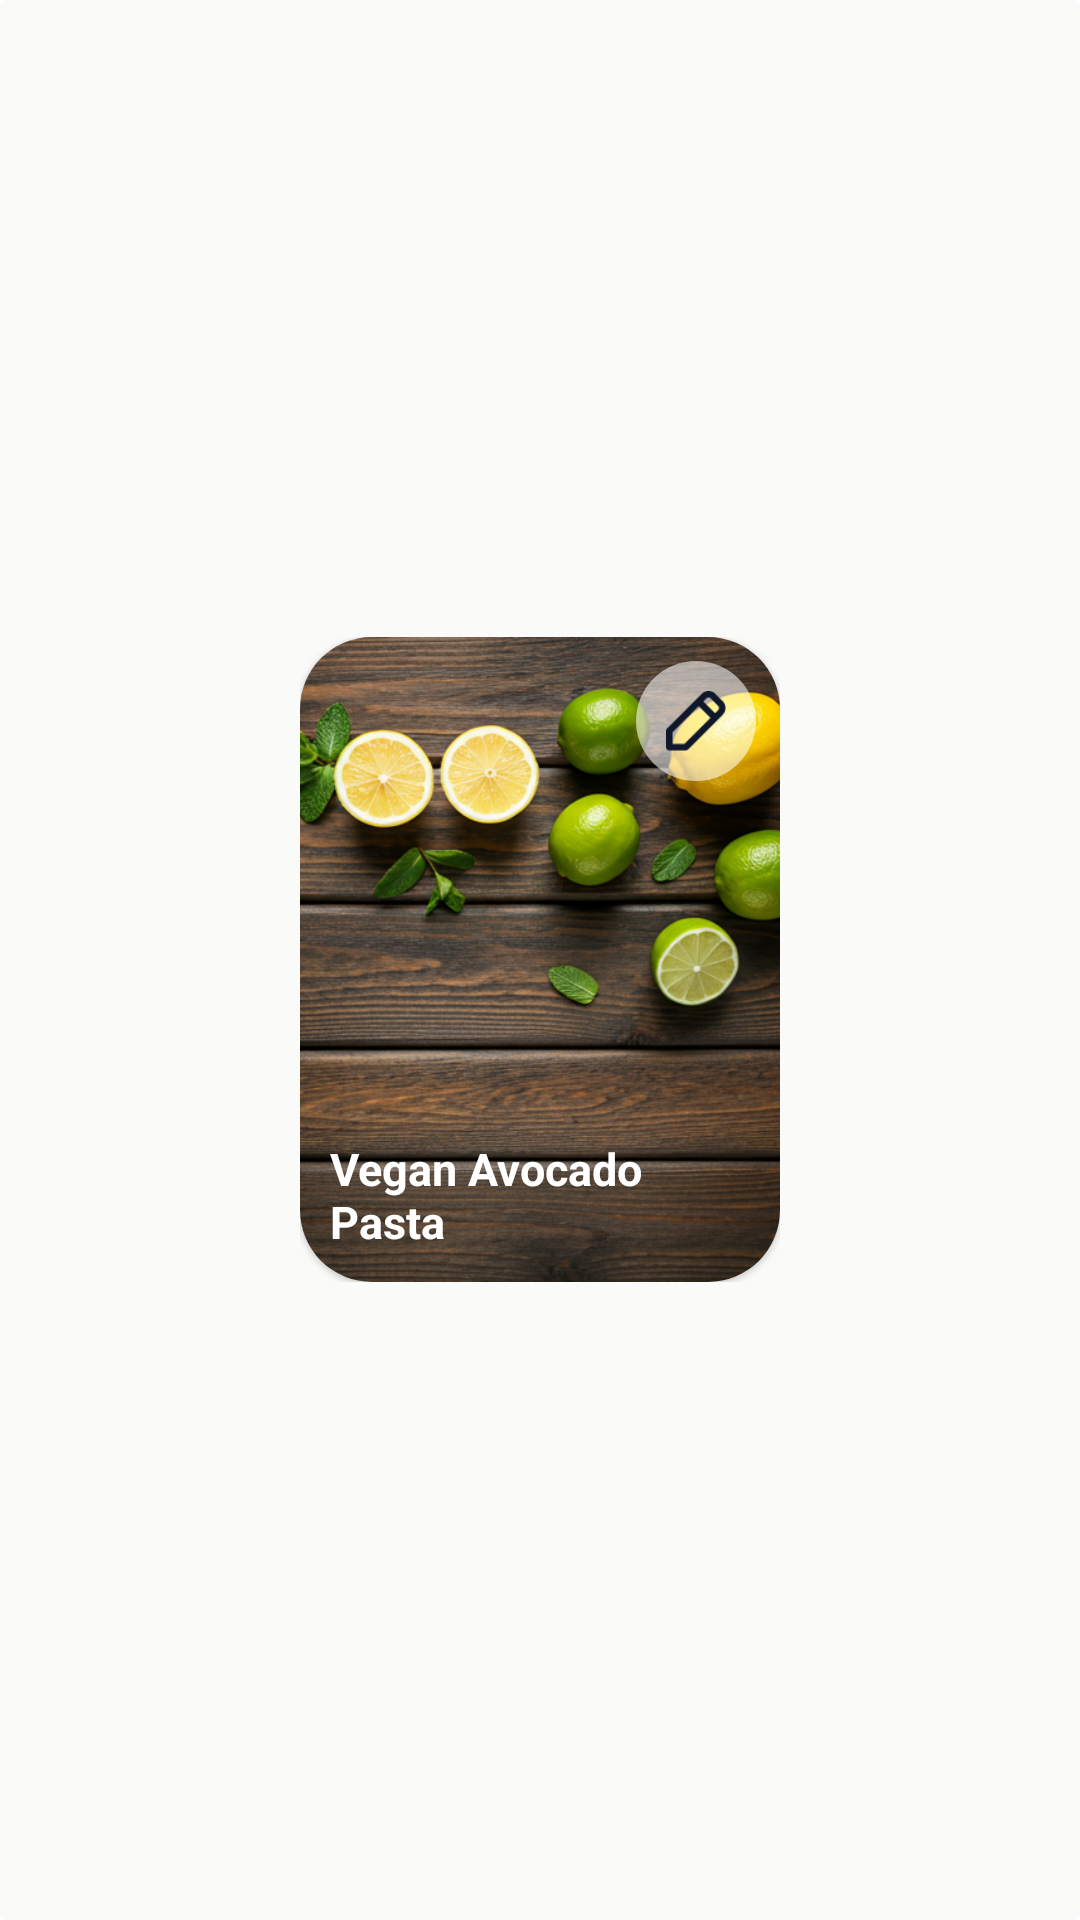

Where to tap for icons on this 1080w x 1920h app screen, as (x=x, y=y):
edit: (x=696, y=721)
